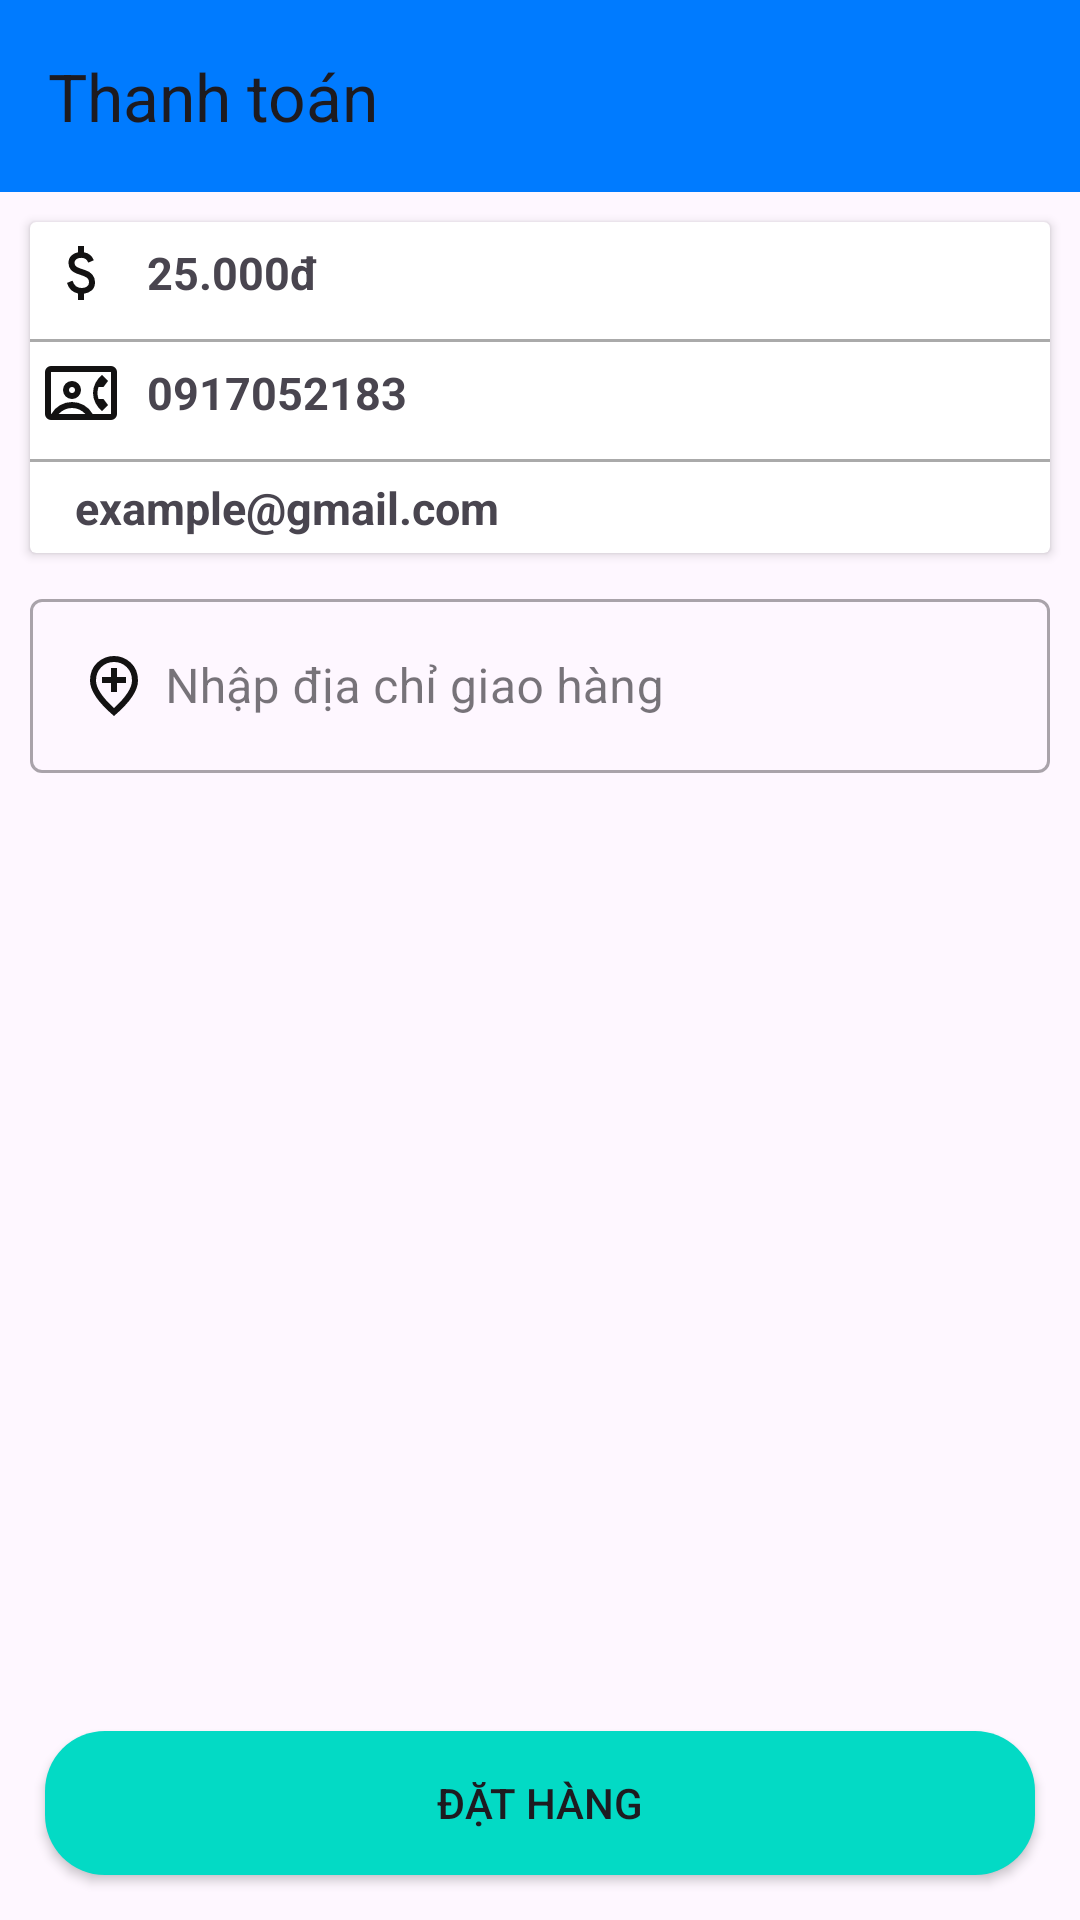

Where to tap for icons on this 1080 x 1920 app screen, as point (x, y):
money: point (81, 273)
phone: point (81, 393)
